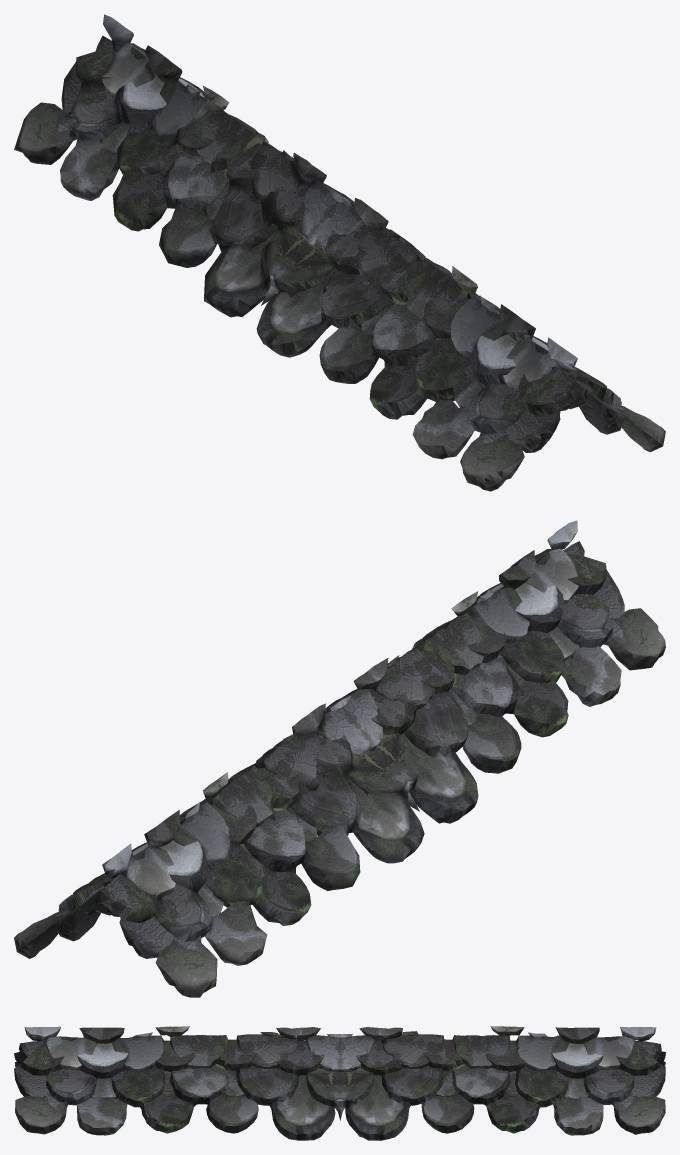
File: SM_Roof_Cap_02.fbx
The picture shows the model from 3 angles, top to bottom: view 1: azimuth 30°, elevation 25°; view 2: azimuth 150°, elevation 25°; view 3: azimuth 270°, elevation 25°; orthographic projection. The views are drawn at different scales.
Visible parts, largest first — view 1: SM_Roof_Cap_02_LOD0; view 2: SM_Roof_Cap_02_LOD0; view 3: SM_Roof_Cap_02_LOD0.
Part boxes in pixels (bbox=[...]): SM_Roof_Cap_02_LOD0: bbox=[14, 14, 665, 491]; SM_Roof_Cap_02_LOD0: bbox=[14, 520, 665, 997]; SM_Roof_Cap_02_LOD0: bbox=[14, 1026, 665, 1140].
Size of the model in its own units: 97.2 by 395 by 57.4.
